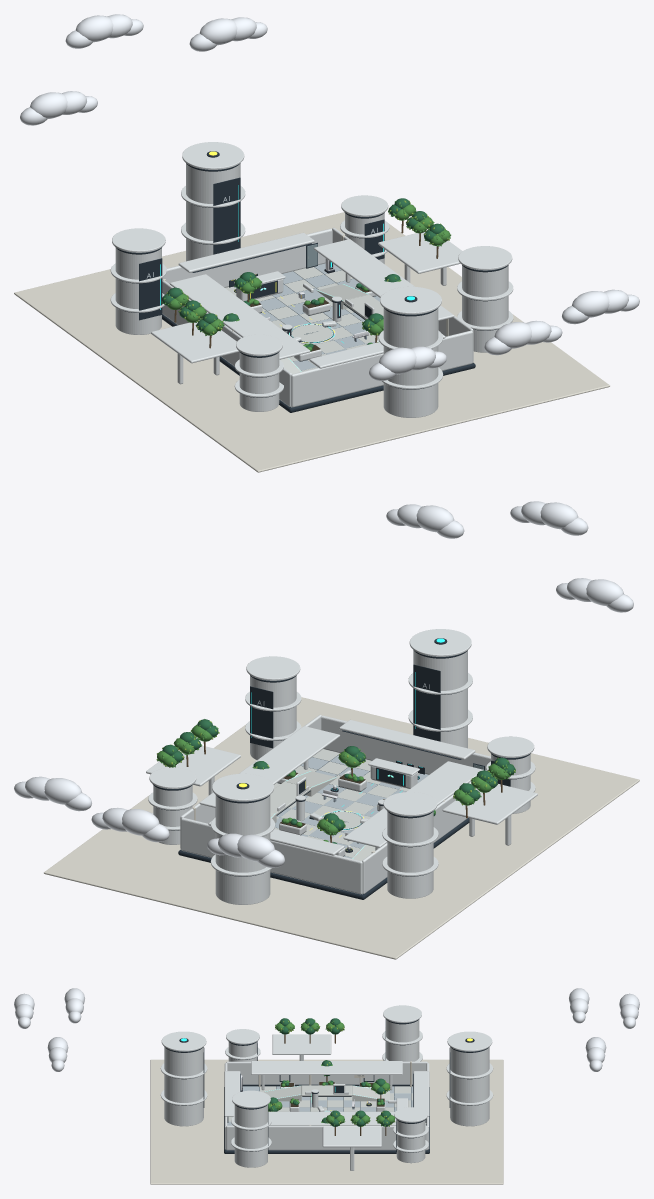
The model's file is GardenCircuit.glb.
3 renders of one model, top to bottom at view 1: azimuth 30°, elevation 25°; view 2: azimuth 150°, elevation 25°; view 3: azimuth 270°, elevation 25°, orthographic. The views are drawn at different scales.
Parts seen in each view (by area): view 1: MAP • Skyline, MAP • Architecture, MAP • Roof canopies • hide for tactical review, MAP • Ground, MAP • Planting, MAP • Traversal, MAP • Objective, MAP • Spawn docks; view 2: MAP • Skyline, MAP • Architecture, MAP • Roof canopies • hide for tactical review, MAP • Ground, MAP • Planting, MAP • Traversal, MAP • Spawn docks, MAP • Objective; view 3: MAP • Skyline, MAP • Architecture, MAP • Roof canopies • hide for tactical review, MAP • Planting, MAP • Ground, MAP • Traversal.
Boxes of the visible parts, x1=… form: MAP • Skyline: x1=14, y1=14, x2=639, y2=472; MAP • Architecture: x1=162, y1=227, x2=473, y2=407; MAP • Roof canopies • hide for tactical review: x1=169, y1=232, x2=454, y2=368; MAP • Ground: x1=162, y1=263, x2=475, y2=412; MAP • Planting: x1=161, y1=198, x2=451, y2=361; MAP • Traversal: x1=280, y1=284, x2=383, y2=373; MAP • Objective: x1=282, y1=296, x2=341, y2=344; MAP • Spawn docks: x1=229, y1=271, x2=285, y2=301; MAP • Skyline: x1=14, y1=501, x2=639, y2=959; MAP • Architecture: x1=180, y1=714, x2=490, y2=894; MAP • Roof canopies • hide for tactical review: x1=199, y1=719, x2=483, y2=855; MAP • Ground: x1=178, y1=749, x2=469, y2=899; MAP • Planting: x1=156, y1=719, x2=515, y2=856; MAP • Traversal: x1=270, y1=771, x2=375, y2=860; MAP • Spawn docks: x1=368, y1=758, x2=424, y2=788; MAP • Objective: x1=295, y1=795, x2=384, y2=831; MAP • Skyline: x1=14, y1=988, x2=639, y2=1184; MAP • Architecture: x1=224, y1=1061, x2=429, y2=1150; MAP • Roof canopies • hide for tactical review: x1=224, y1=1061, x2=429, y2=1125; MAP • Planting: x1=268, y1=1018, x2=395, y2=1135; MAP • Ground: x1=224, y1=1086, x2=429, y2=1153; MAP • Traversal: x1=264, y1=1084, x2=389, y2=1101.
Size of the model in its own units: 35 by 16.31 by 74.47.
